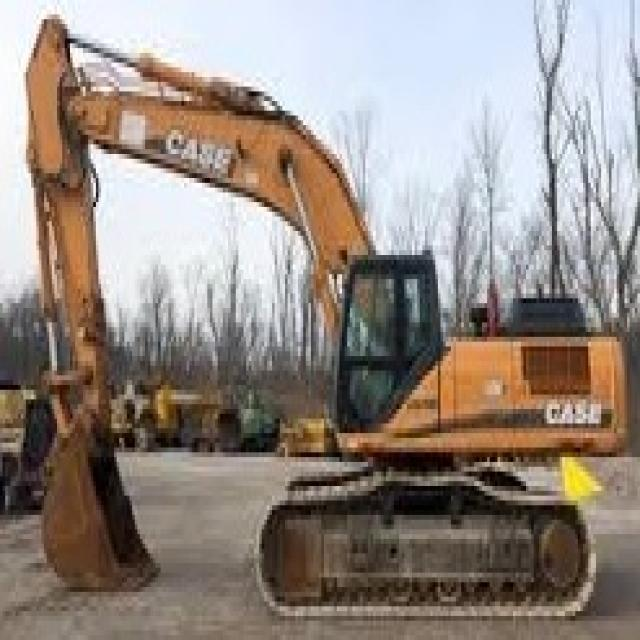excavator: (247, 246, 640, 640)
